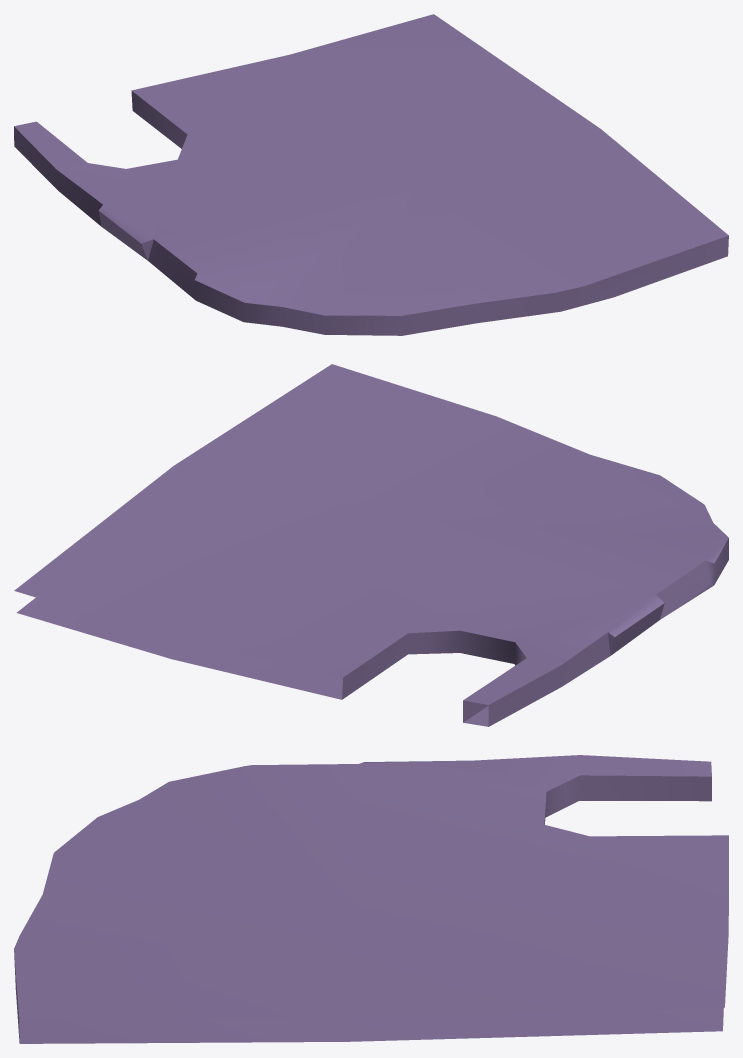
Rendered from floor_3.fbx.
3 views of the same model, one above another, from view 1: azimuth 30°, elevation 25°; view 2: azimuth 150°, elevation 25°; view 3: azimuth 270°, elevation 25° (orthographic). The views are drawn at different scales.
Visible parts, largest first — view 1: floor_3; view 2: floor_3; view 3: floor_3.
Boxes of the visible parts, left/top/right/bottom form: floor_3: left=14, top=14, right=728, bottom=335; floor_3: left=14, top=364, right=728, bottom=726; floor_3: left=14, top=755, right=728, bottom=1043.
Bounding box in the file's own units: 280 × 25.98 × 317.
